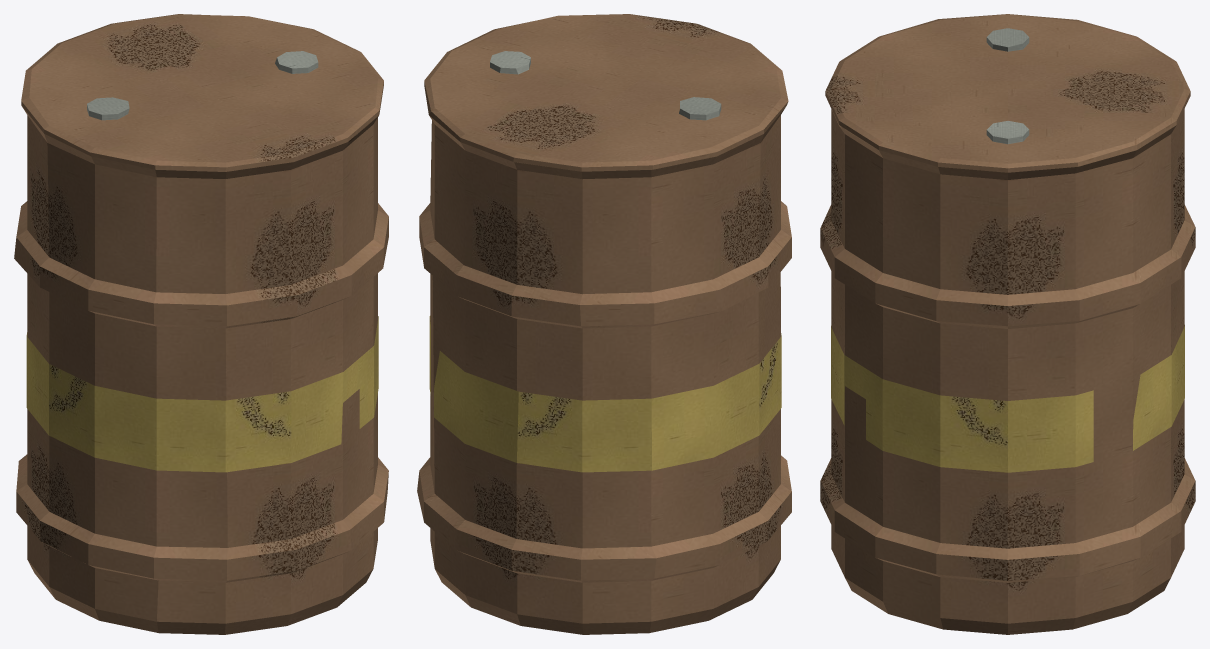
The model's file is barrel_v3.glb.
3 renders of one model, left to right at view 1: azimuth 30°, elevation 25°; view 2: azimuth 150°, elevation 25°; view 3: azimuth 270°, elevation 25°, orthographic.
Visible parts, largest first — view 1: Variant_barrel_3; view 2: Variant_barrel_3; view 3: Variant_barrel_3.
Boxes of the visible parts, x1,y1,x2,y2 form: Variant_barrel_3: (14,14,388,634); Variant_barrel_3: (417,14,791,634); Variant_barrel_3: (820,14,1195,634).
Size of the model in its own units: 0.616 by 0.87 by 0.616.
Materials: 3 (3 with a texture image).
